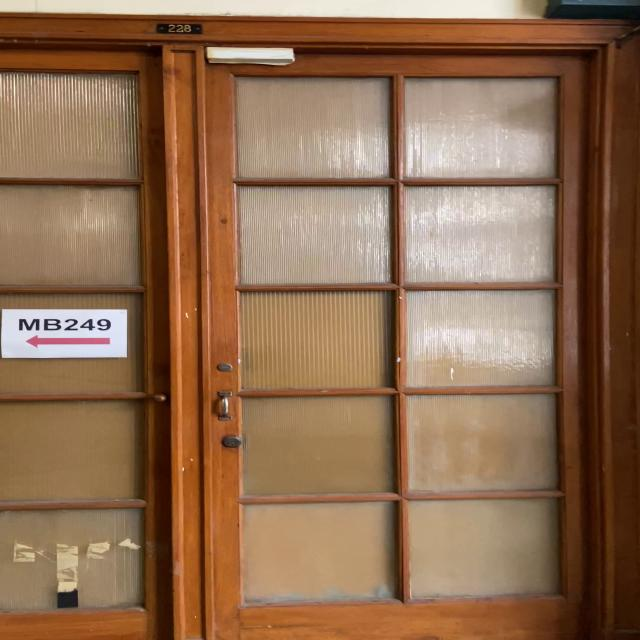room228: (154, 21, 204, 35)
